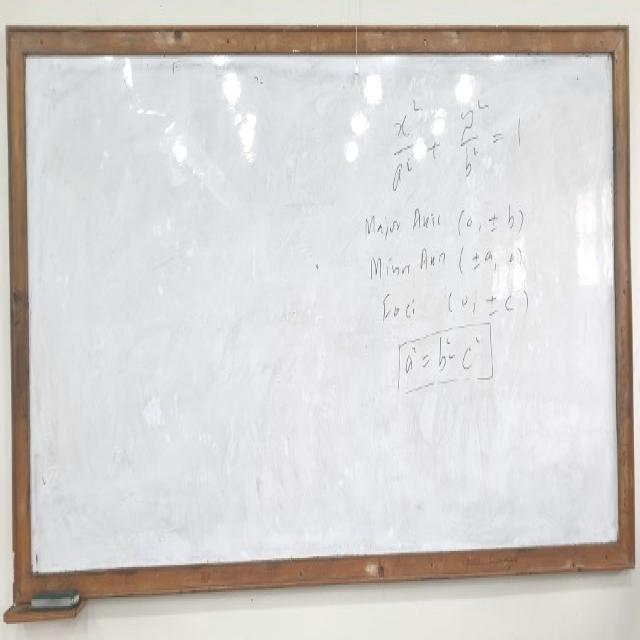White-board: (18, 39, 626, 586)
